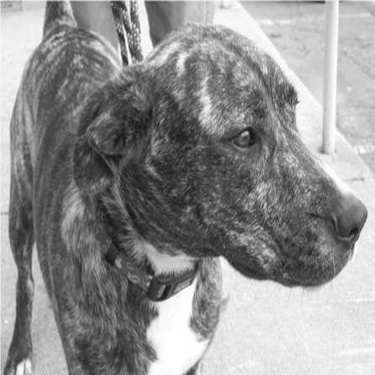dog: (2, 3, 372, 373)
